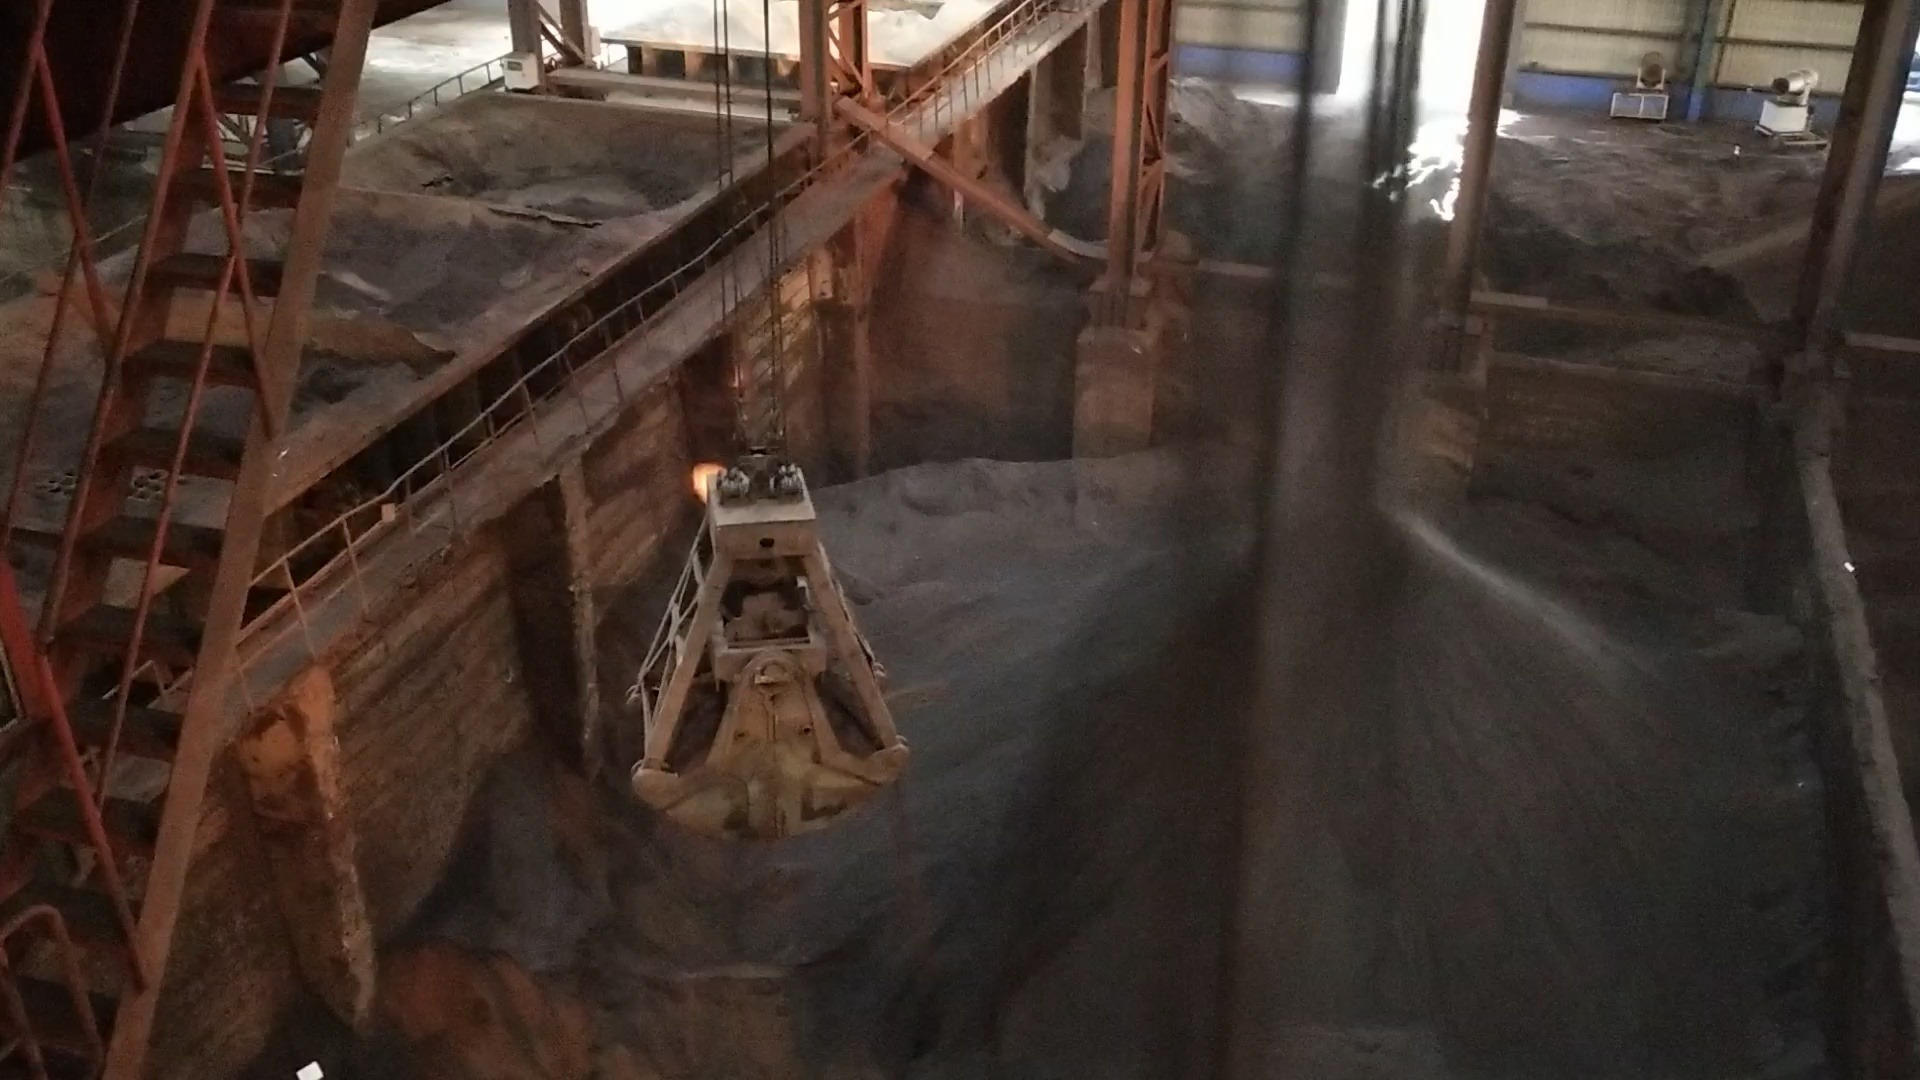grab: (620, 426, 916, 847)
